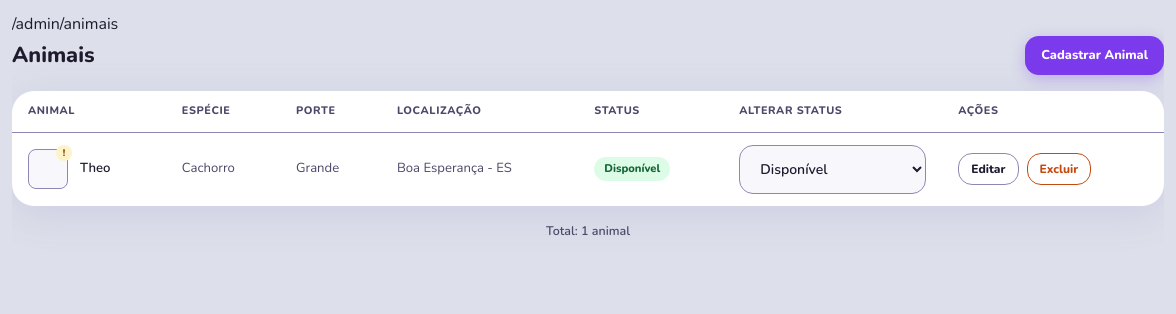
alteração de status na linha › CT-74: falha genérica reverte o campo e exibe a mensagem da feature
Select "Reservado" in the dropdown named "Alterar status de Theo" at (833, 169), box [739, 144, 926, 194]
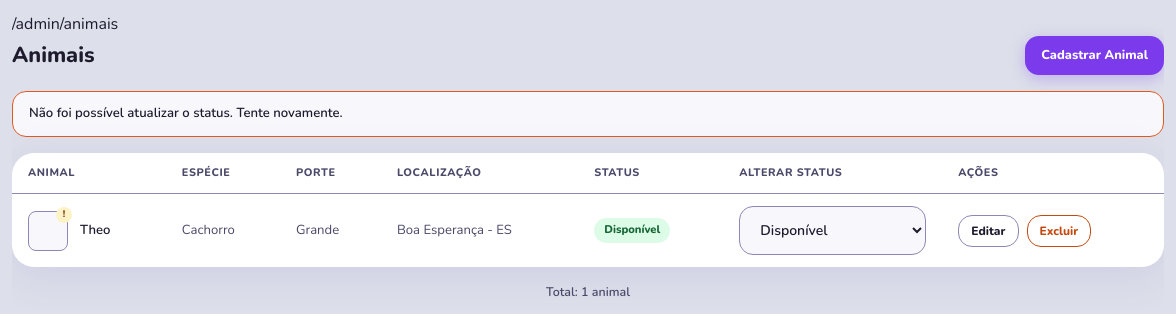
Expected: the text "Não foi possível atualizar o status. Tente novamente." is shown, [12, 91, 1164, 137]
